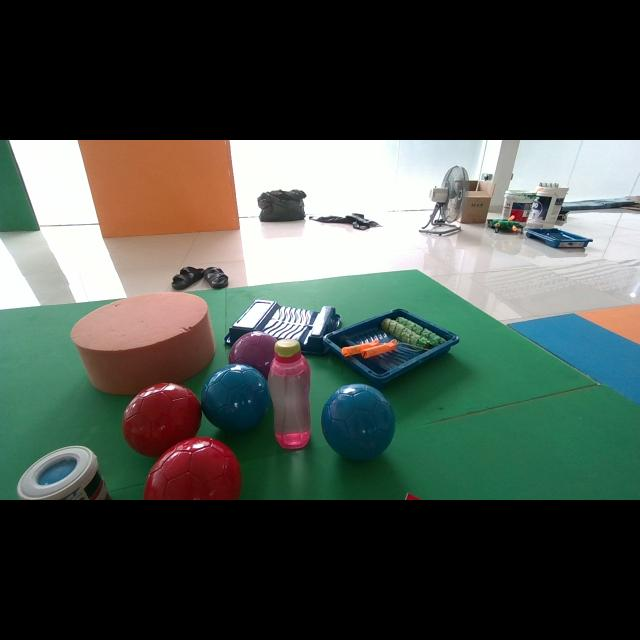B: (322, 384, 395, 461), (201, 364, 270, 431)
P: (229, 331, 276, 379)
R: (144, 438, 241, 500), (122, 382, 201, 458)
